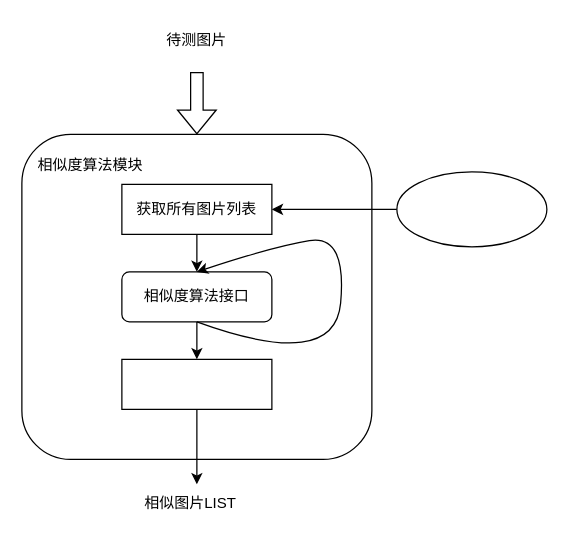
Image size: 569x543. Some labels were removed from this diagram. The centre of each missing label's shape, as x and y in pixels:
"图片数据库" goes at [471,209].
"相似度排序前十" goes at [196,383].
